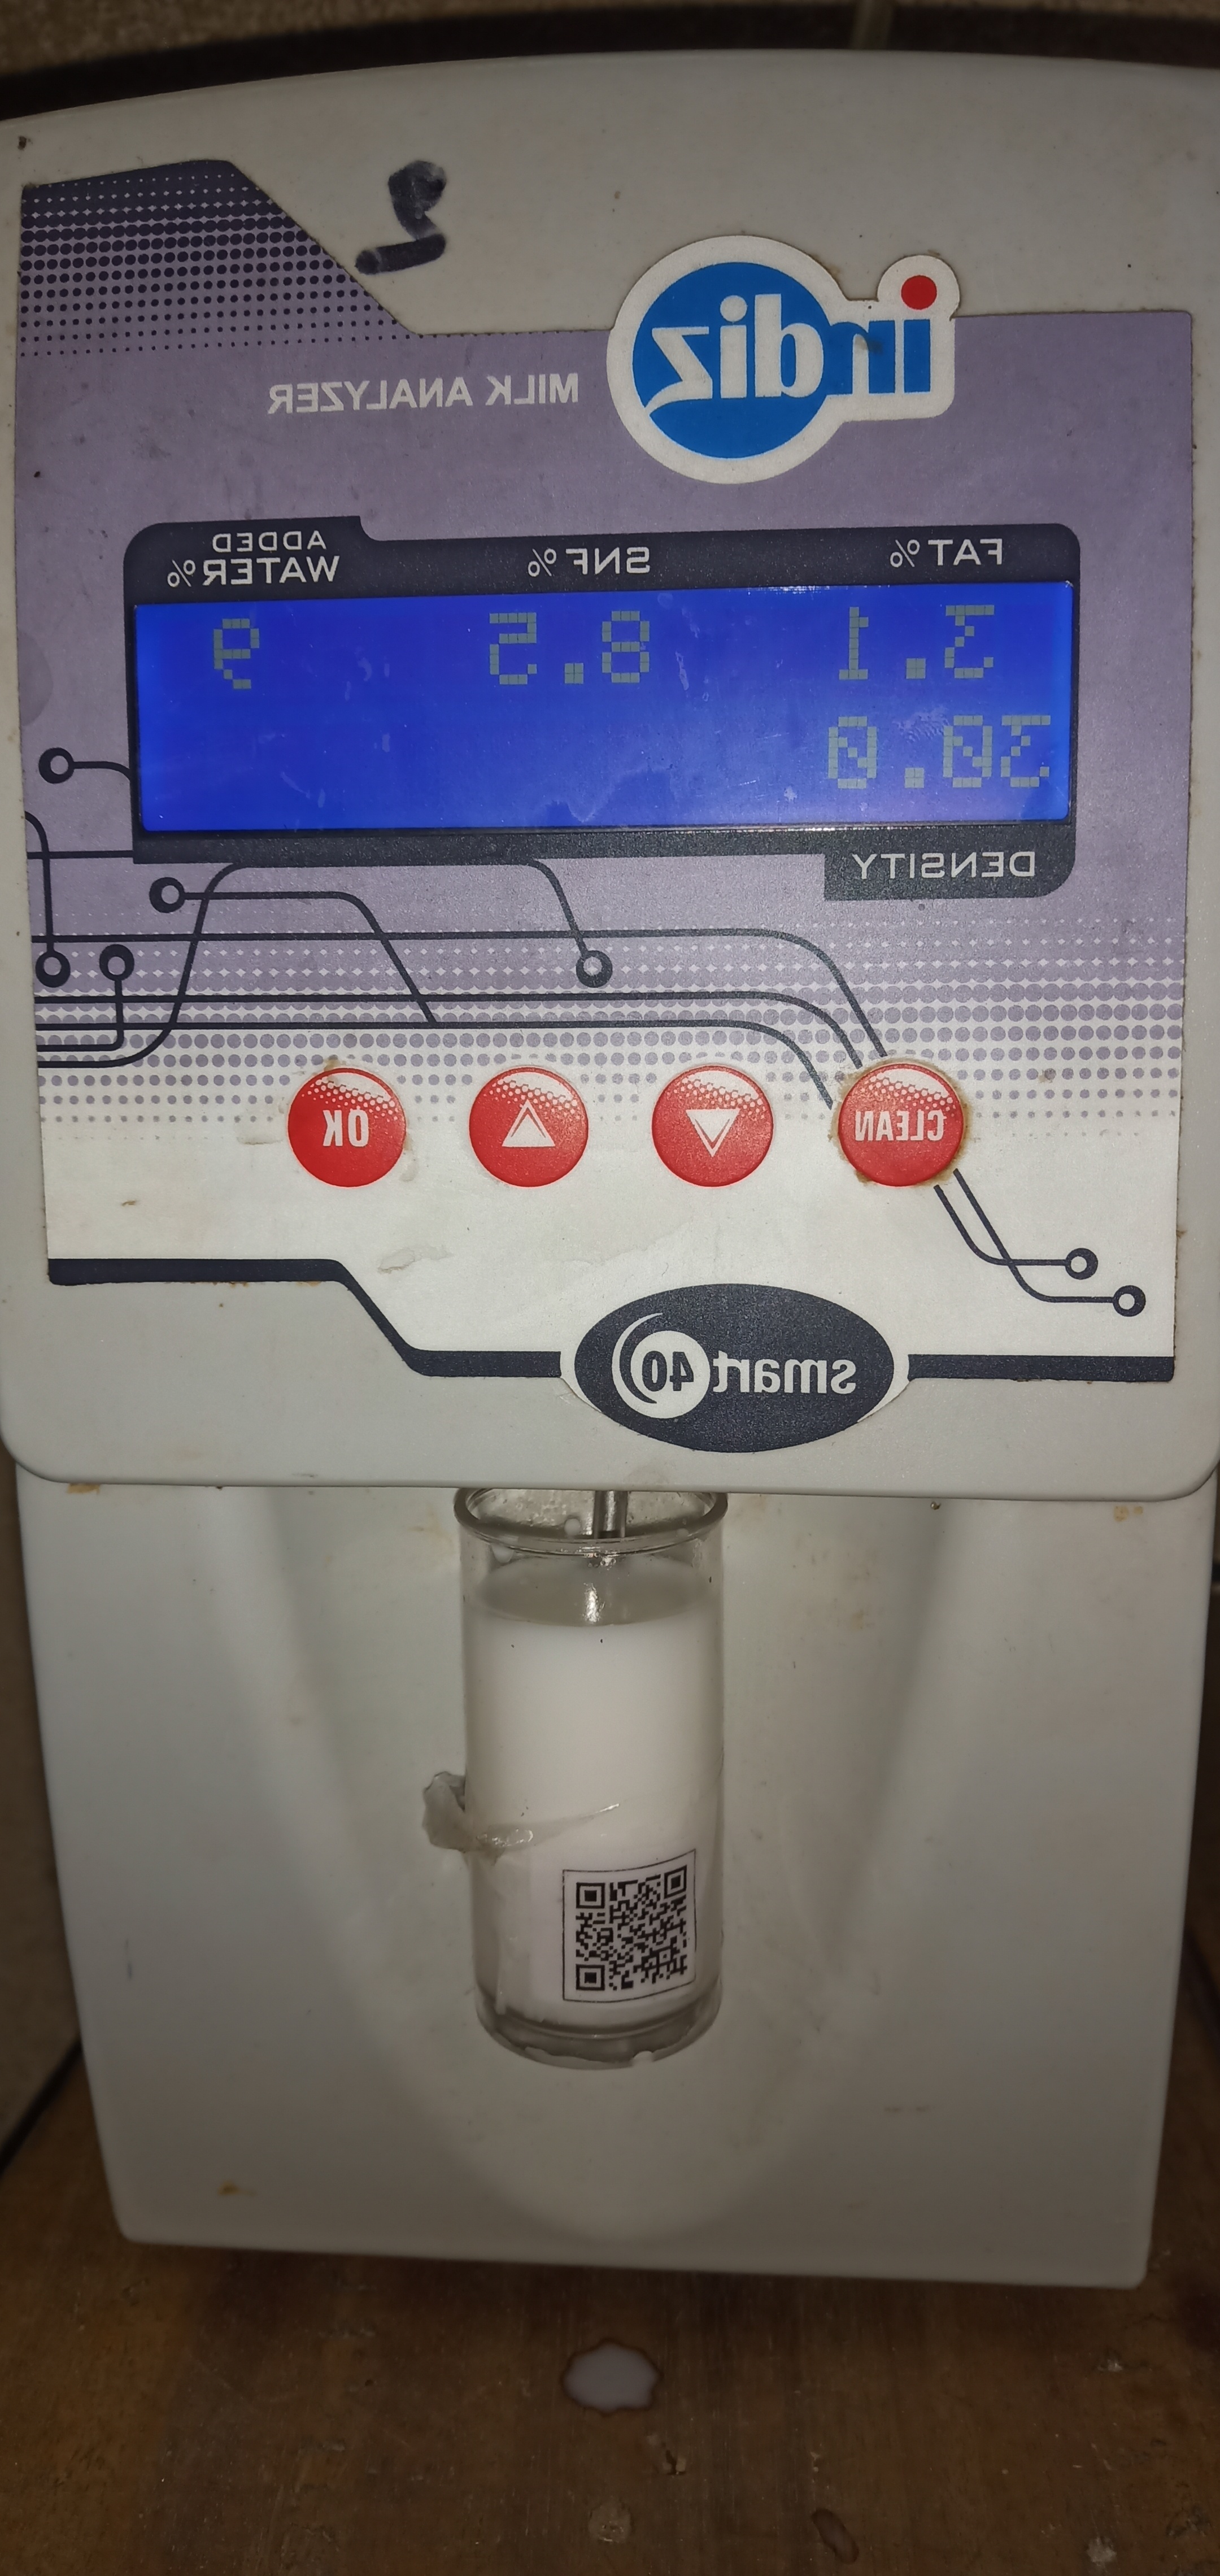lcd: (120, 509, 1100, 936)
qr: (571, 1840, 713, 2022)
